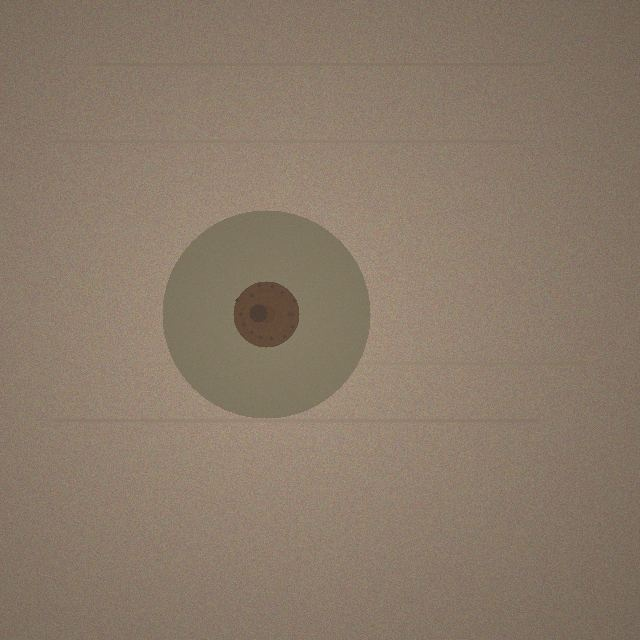cold_weld: (162, 210, 370, 418)
